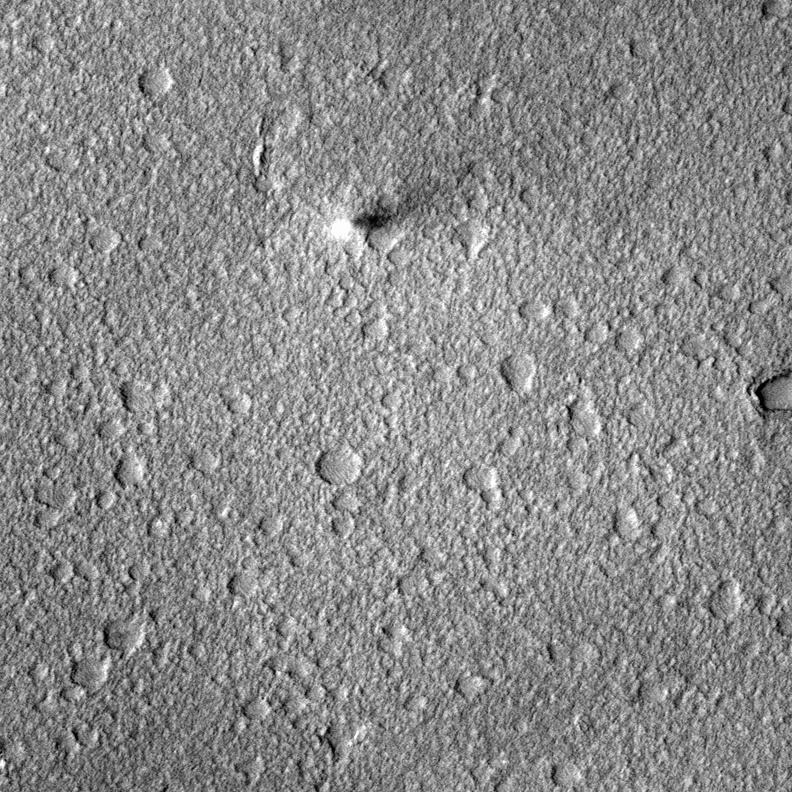dust_devil: (324, 201, 402, 249)
